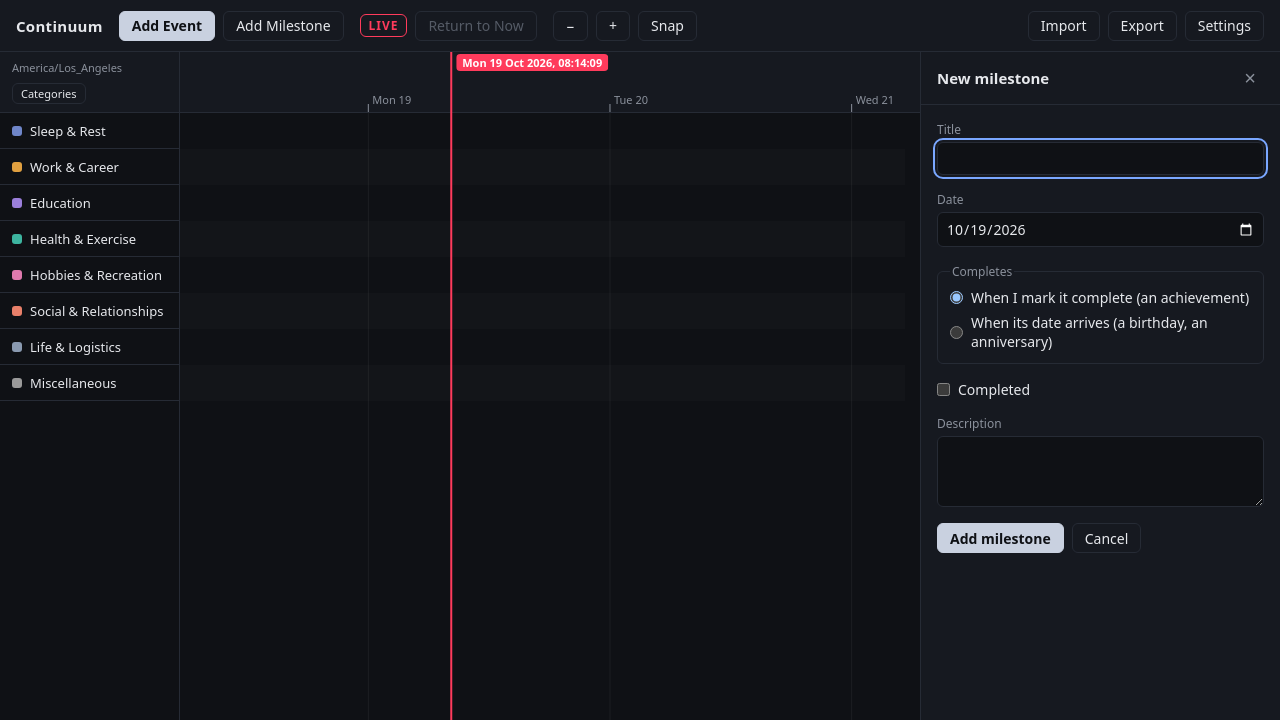
Test: milestone editor (§5.7) › a date-based milestone shows its derived state and stores no completion
In the field labelled "Title": (1100, 158) [937, 142, 1264, 175], type "21st birthday"
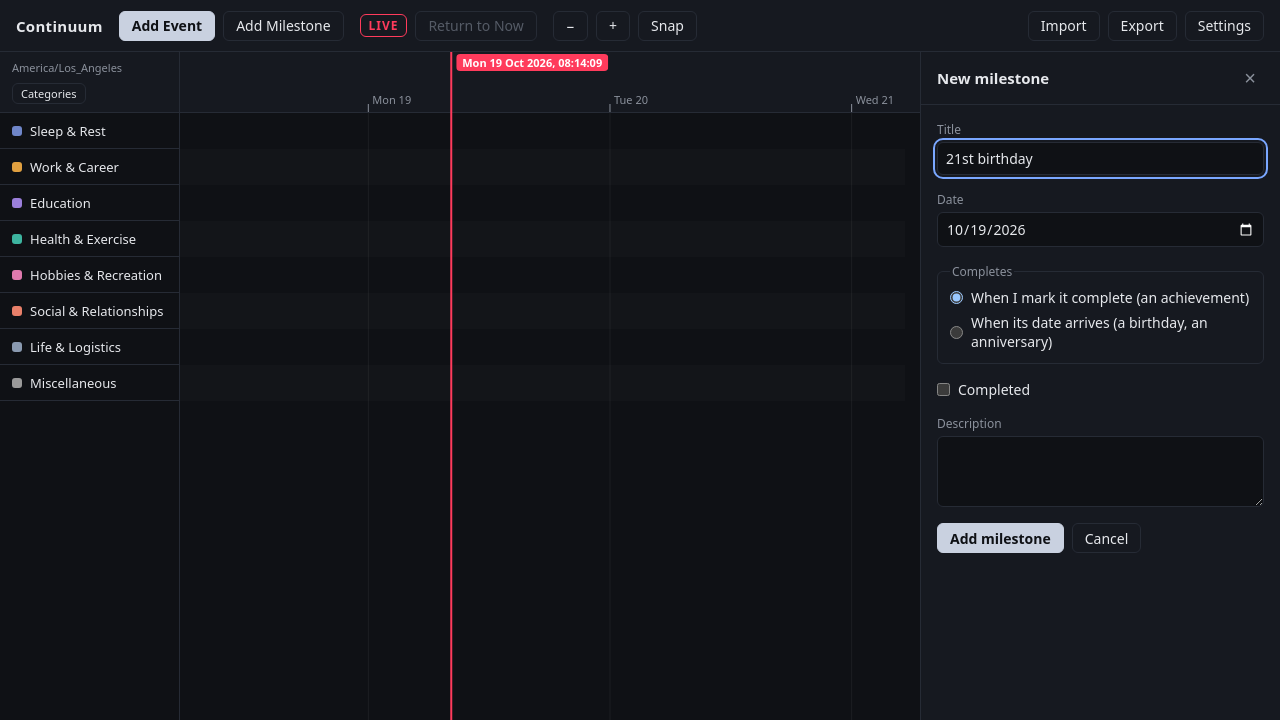
In the date field labelled "Date": (1100, 230) [937, 212, 1264, 247], type "2021-01-01"
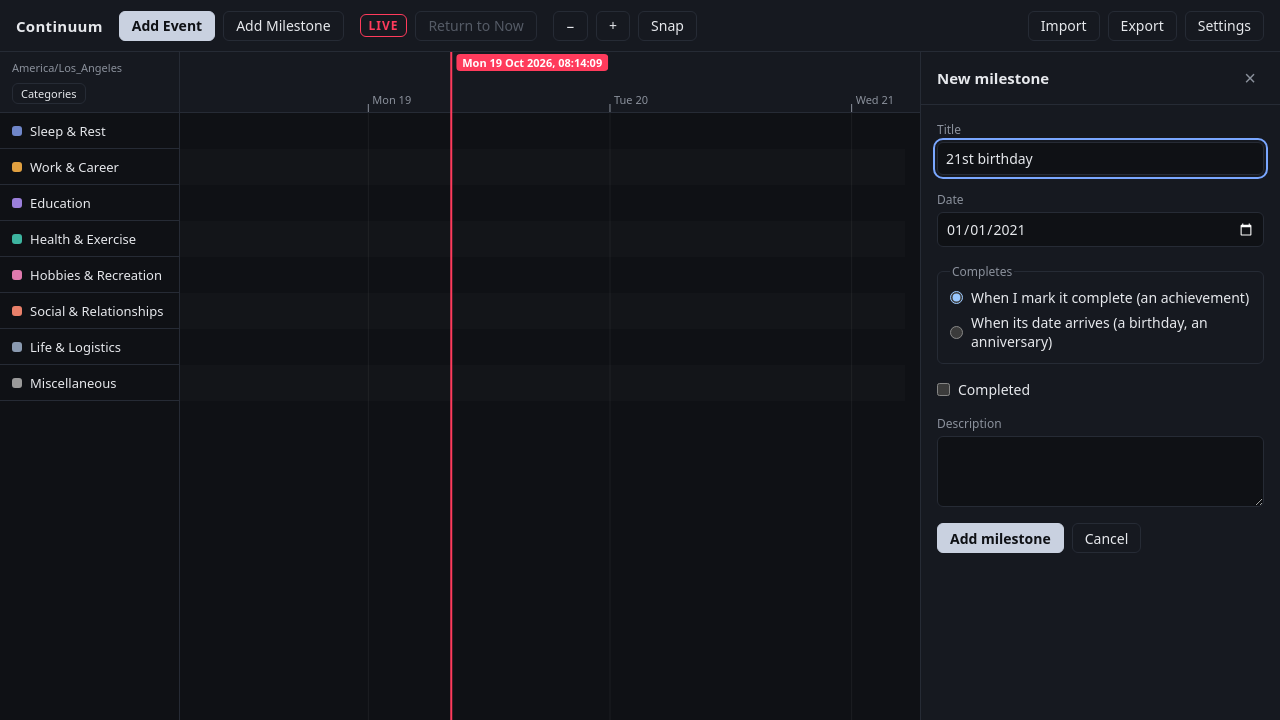
Click the radio button labelled "When its date arrives (a birthday, an anniversary)": click(956, 332) [950, 326, 963, 338]
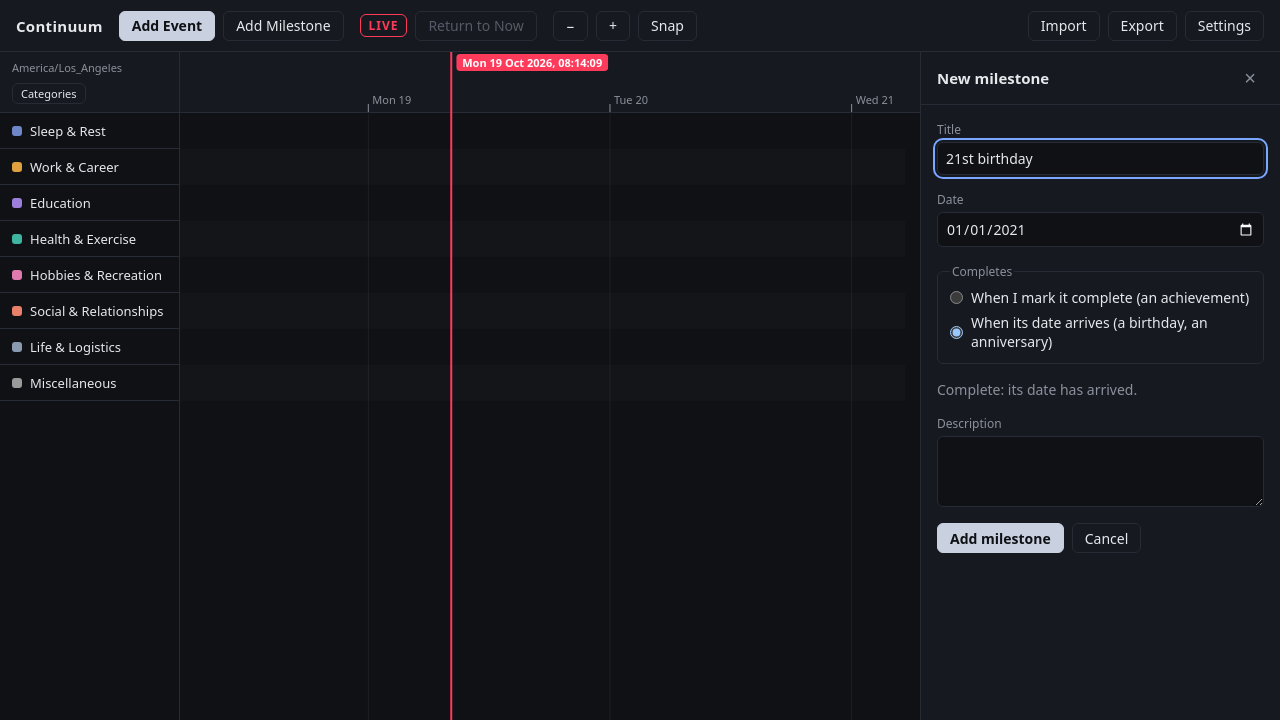
expect the text "Complete: its date has arrived." is shown: met, box [937, 380, 1137, 399]
expect the label labelled "Completed" is gone: met
In the date field labelled "Date": (1100, 230) [937, 212, 1264, 247], type "2090-01-01"
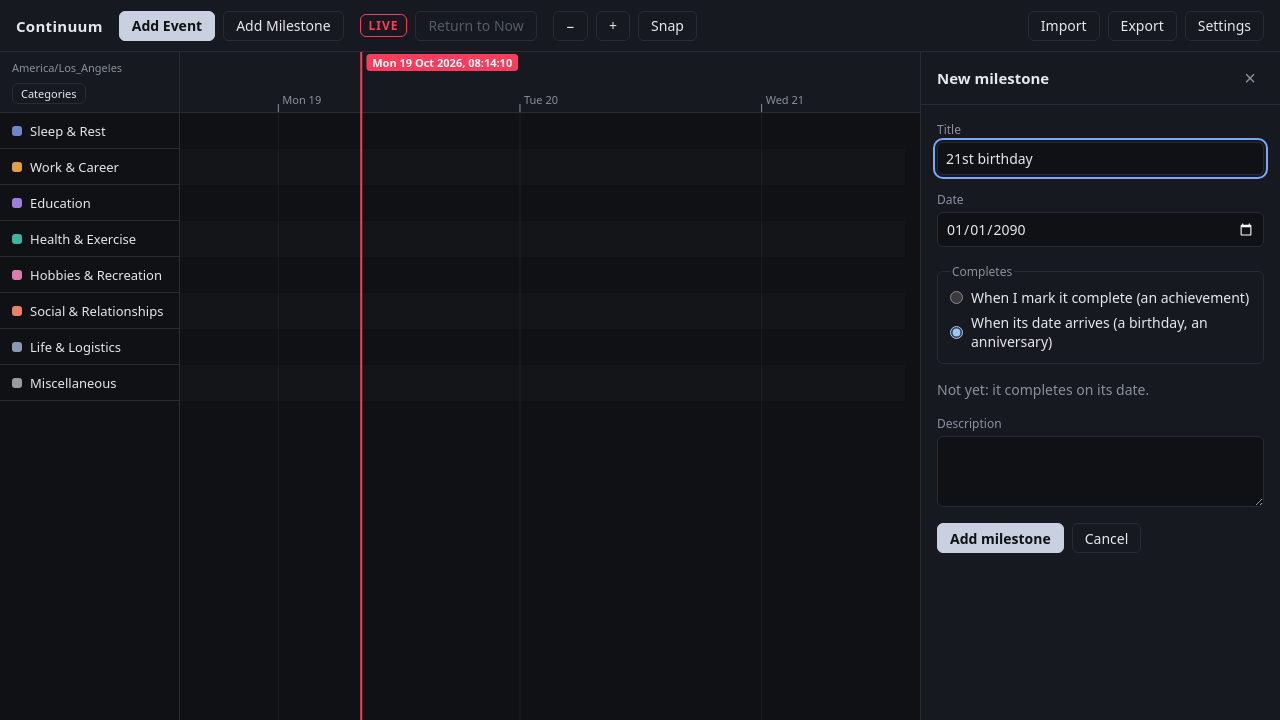
expect the text "Not yet: it completes on its date." is shown: met, box [937, 380, 1149, 399]
